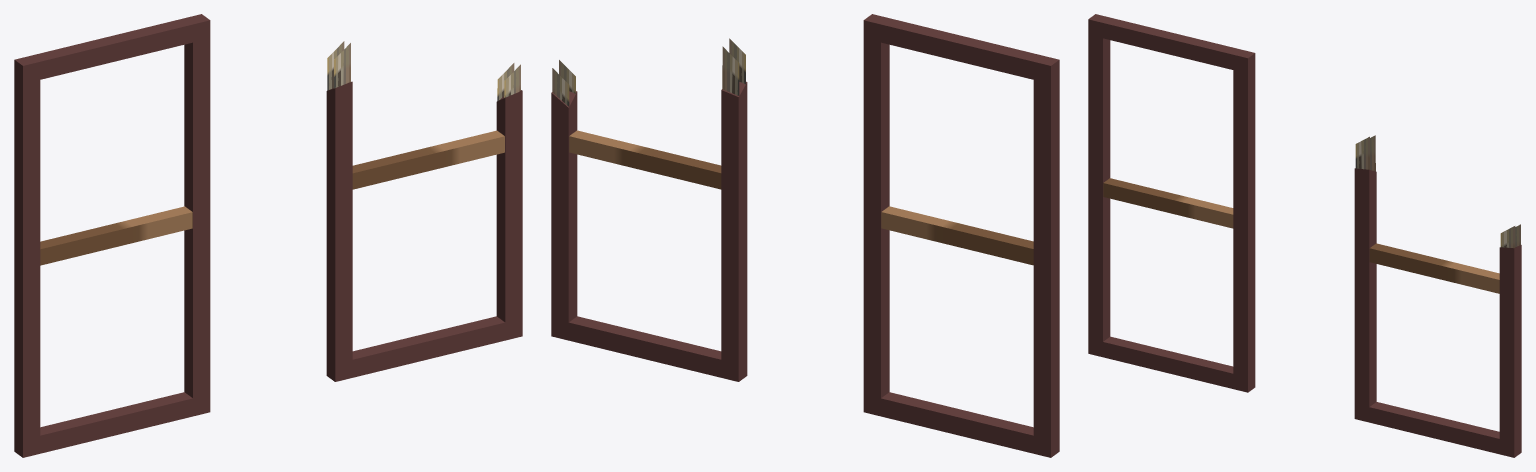
Rendered from DBK_WinDouble_Wood_90.fbx.
The picture shows the model from 3 angles, left to right: view 1: azimuth 30°, elevation 25°; view 2: azimuth 150°, elevation 25°; view 3: azimuth 330°, elevation 25°; orthographic projection. The views are drawn at different scales.
Parts seen in each view (by area): view 1: DBK_WinDouble_Wood_90; view 2: DBK_WinDouble_Wood_90; view 3: DBK_WinDouble_Wood_90.
Boxes of the visible parts, box(x1,y1,x2,y2) form: DBK_WinDouble_Wood_90: box(14, 14, 522, 457); DBK_WinDouble_Wood_90: box(551, 14, 1059, 457); DBK_WinDouble_Wood_90: box(1088, 14, 1521, 457).
Size of the model in its own units: 160 by 120 by 4.75.
